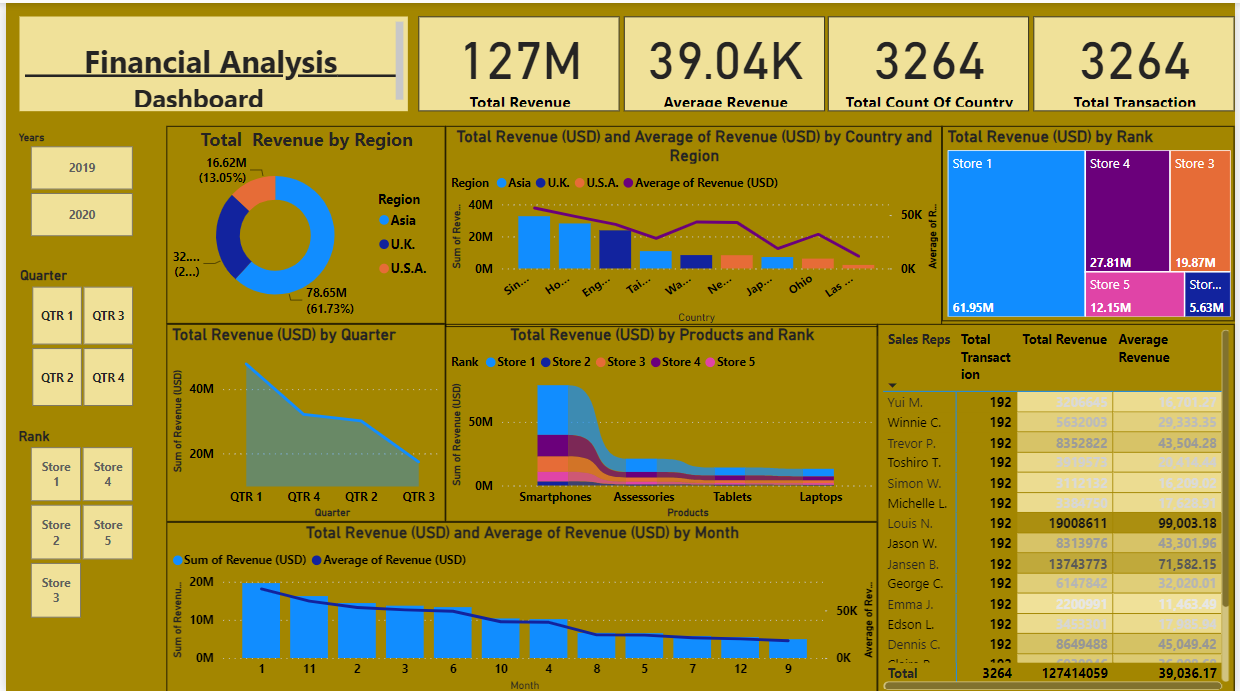

The page's visual inventory and layout, read from the dashboard file:
{"tool":"powerbi","page":{"name":"Page 1","canvas":[1280,720],"ordinal":0},"visuals":[{"type":"card","fields":{"Values":["Data Set.Total Revenue"]},"box":[429.8,14.1,209.4,98.5],"z":0},{"type":"card","fields":{"Values":["Data Set.Average Revenue"]},"box":[643.4,14.1,209.4,98.5],"z":1000},{"type":"card","fields":{"Values":["Data Set.Total Count Of Country"]},"box":[857,14.1,209.4,98.5],"z":2000},{"type":"card","fields":{"Values":["Data Set.Total Transaction"]},"box":[1070.6,14.1,209.4,98.5],"z":3000},{"type":"donutChart","title":"Total  Revenue by Region","fields":{"Category":["Data Set.Region"],"Y":["Data Set.Revenue (USD)"]},"box":[167.2,128.2,290.7,206.3],"z":4000},{"type":"lineStackedColumnComboChart","title":"Total Revenue (USD) and Average of Revenue (USD) by Country and Region","fields":{"Category":["Data Set.Country"],"Y":["Data Set.Revenue (USD)"],"Y2":["Data Set.Revenue (USD)"],"Series":["Data Set.Region"]},"box":[458,128.2,517.3,209.4],"z":5000},{"type":"treemap","title":"Total  Revenue (USD) by Rank","fields":{"Group":["Data Set.Rank"],"Values":["Data Set.Revenue (USD)"]},"box":[975.3,128.2,304.8,203.2],"z":6000},{"type":"areaChart","title":"Total Revenue (USD) by Quarter","fields":{"Category":["Data Set.Quarter"],"Y":["Data Set.Revenue (USD)"]},"box":[167.2,334.5,290.7,206.3],"z":7000},{"type":"ribbonChart","title":"Total Revenue (USD) by Products and Rank","fields":{"Y":["Data Set.Revenue (USD)"],"Category":["Data Set.Products"],"Series":["Data Set.Rank"]},"box":[458,334.5,450.1,206.3],"z":8000},{"type":"pivotTable","fields":{"Rows":["Data Set.Sales Reps"],"Values":["Data Set.Total Transaction","Data Set.Total Revenue","Data Set.Average Revenue"]},"box":[908.1,334.5,372,386.1],"z":10000},{"type":"lineStackedColumnComboChart","title":"Total Revenue (USD) and Average of Revenue (USD) by Month","fields":{"Y":["Data Set.Revenue (USD)"],"Y2":["Data Set.Revenue (USD)"],"Category":["Data Set.Month"]},"box":[167.2,540.8,740.9,179.7],"z":11000},{"type":"textbox","box":[14.1,14.1,404.8,98.5],"z":12000},{"type":"slicer","fields":{"Values":["Data Set.Years"]},"box":[0,128.2,156.3,121.9],"z":12001},{"type":"slicer","fields":{"Values":["Data Set.Quarter"]},"box":[1.6,270.4,154.7,156.3],"z":12002},{"type":"slicer","fields":{"Values":["Data Set.Rank"]},"box":[0,437.6,156.3,209.4],"z":12003}]}

Visuals, with their boxes in screenshot pixels (x1, y1, x2, y2), scaled from the page's 1280x720 canvas onto the 1240x691 screenshot:
card - Data Set.Total Revenue: BBox(416, 14, 619, 108)
card - Data Set.Average Revenue: BBox(623, 14, 826, 108)
card - Data Set.Total Count Of Country: BBox(830, 14, 1033, 108)
card - Data Set.Total Transaction: BBox(1037, 14, 1239, 108)
"Total  Revenue by Region" donutChart: BBox(162, 123, 444, 321)
"Total Revenue (USD) and Average of Revenue (USD) by Country and Region" lineStackedColumnComboChart: BBox(444, 123, 945, 324)
"Total  Revenue (USD) by Rank" treemap: BBox(945, 123, 1239, 318)
"Total Revenue (USD) by Quarter" areaChart: BBox(162, 321, 444, 519)
"Total Revenue (USD) by Products and Rank" ribbonChart: BBox(444, 321, 880, 519)
pivotTable - Data Set.Sales Reps x Data Set.Total Transaction: BBox(880, 321, 1239, 690)
"Total Revenue (USD) and Average of Revenue (USD) by Month" lineStackedColumnComboChart: BBox(162, 519, 880, 690)
textbox: BBox(14, 14, 406, 108)
slicer - Data Set.Years: BBox(0, 123, 151, 240)
slicer - Data Set.Quarter: BBox(2, 260, 151, 410)
slicer - Data Set.Rank: BBox(0, 420, 151, 621)
